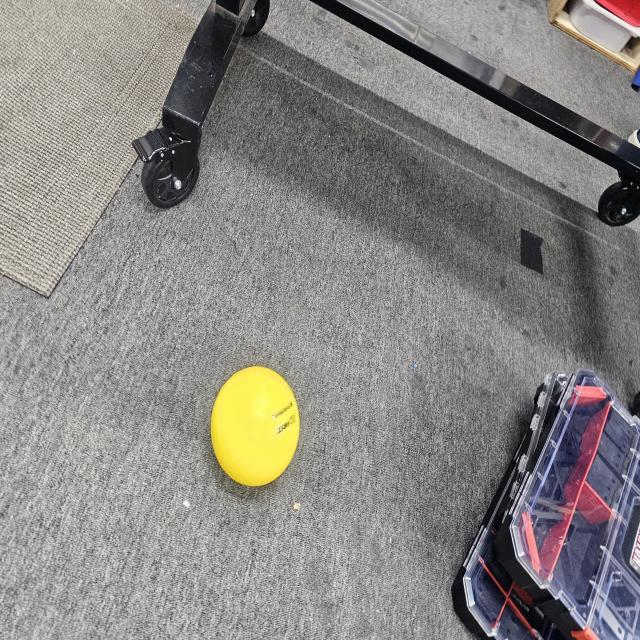Fuel: (204, 360, 306, 493)
